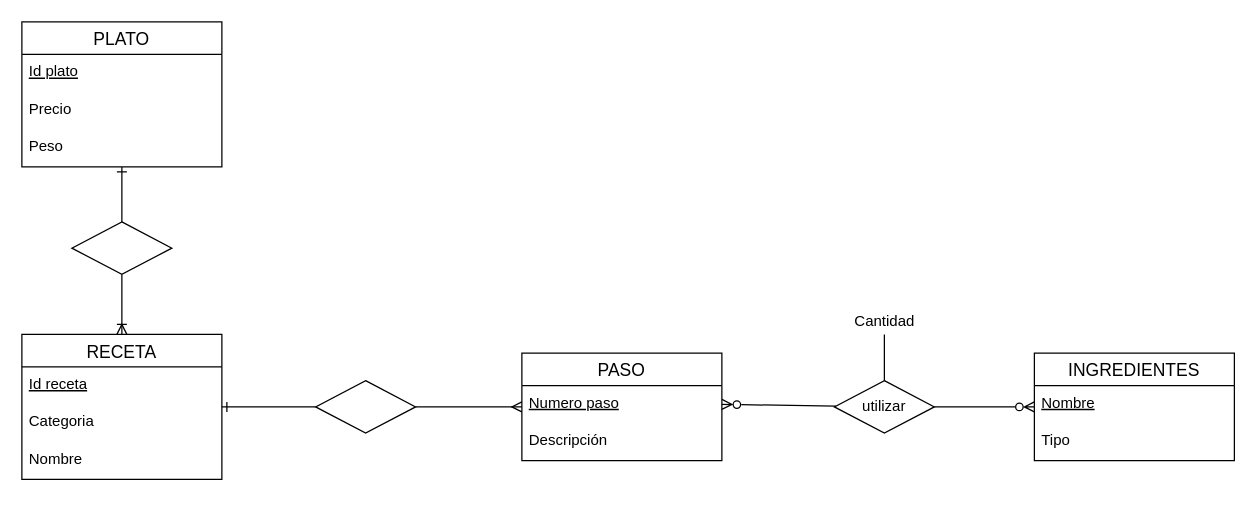
Some shapes in this 1256 by 505 pixel diagram are drawn without their labels. The centre of each missing label's shape, as x and y in pixels:
"cocinar" goes at point (121, 247).
"realizar" goes at point (365, 406).
